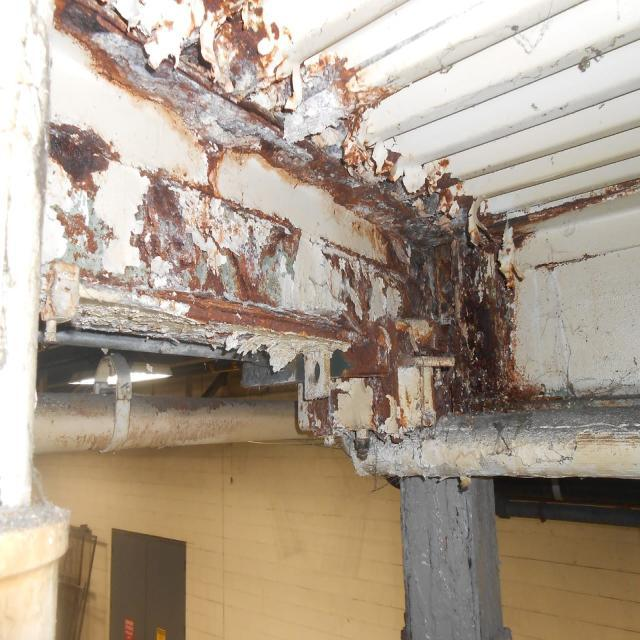stain_mould: (173, 0, 561, 416), (55, 0, 173, 103)
